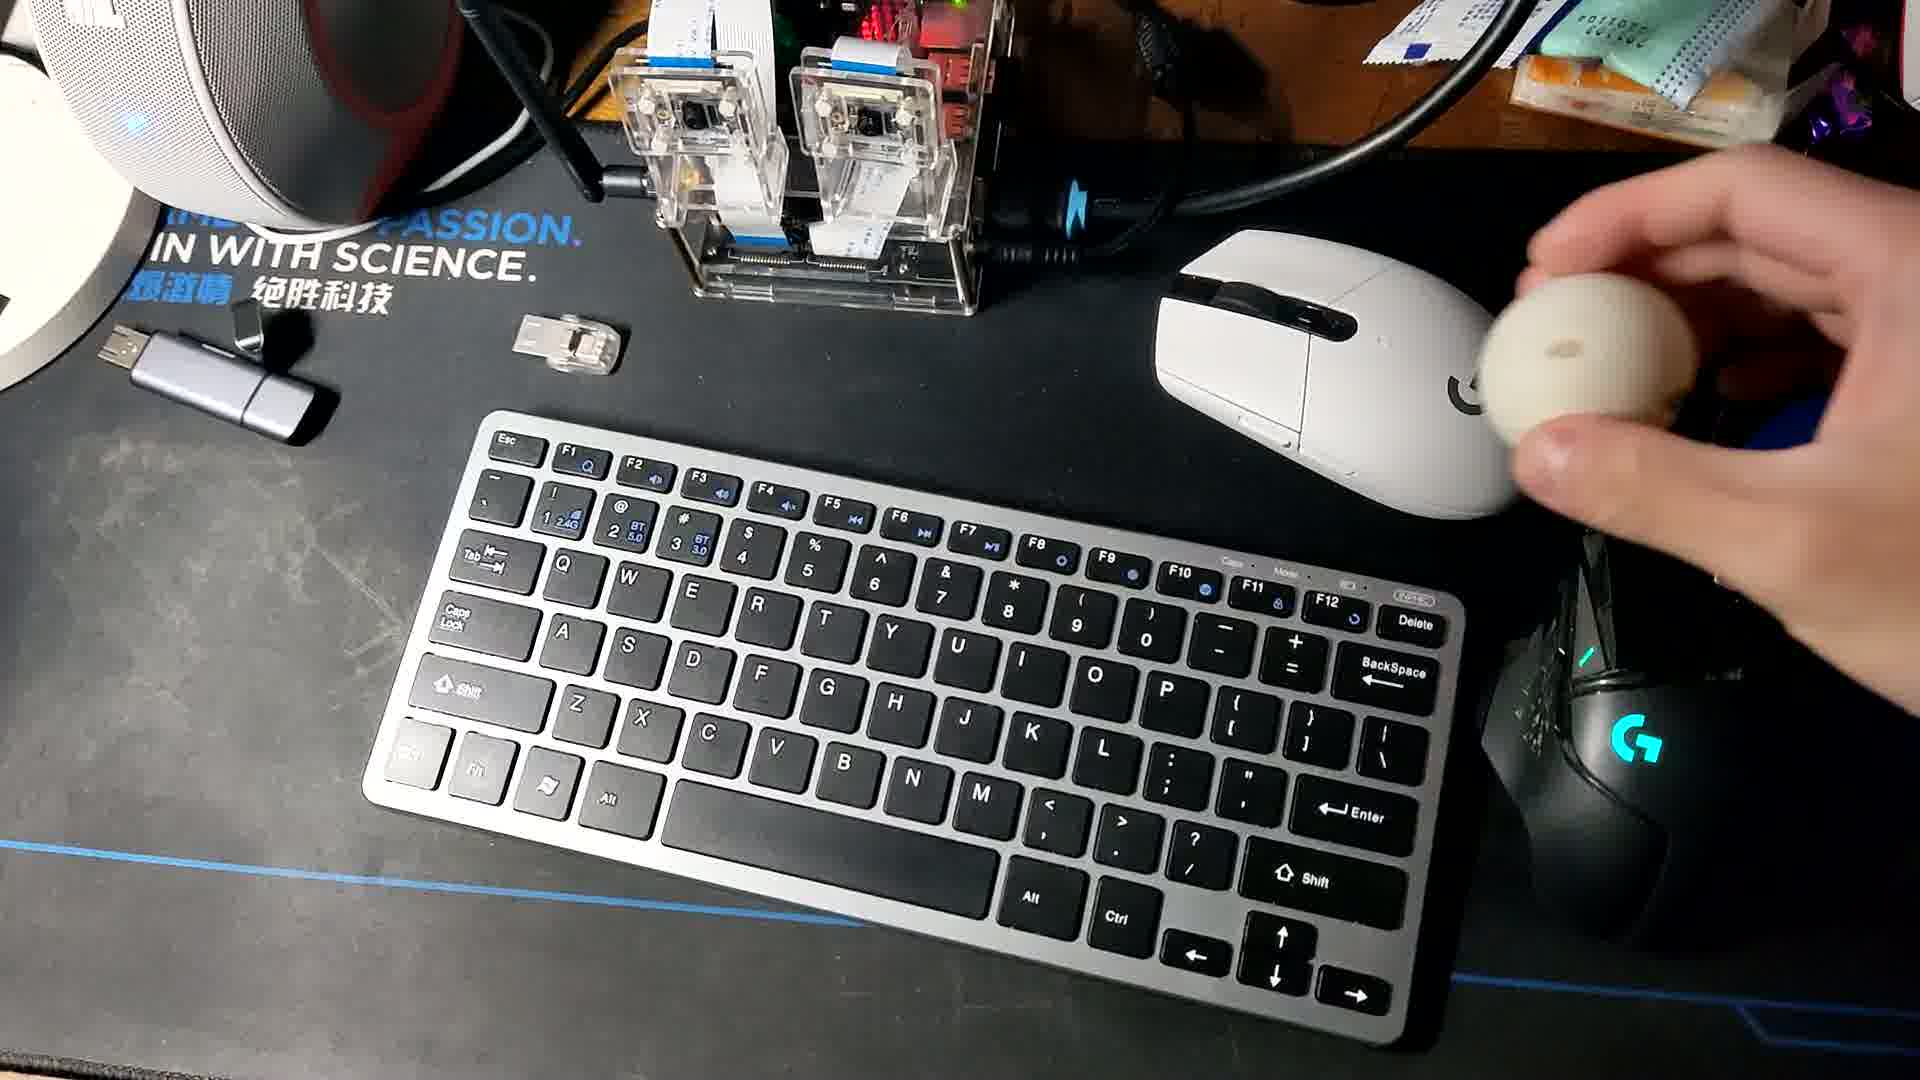Ball: (1480, 274, 1695, 471)
